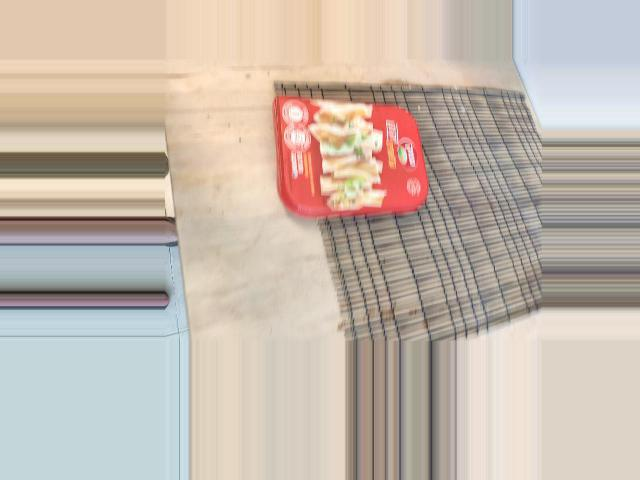cheese: (287, 167, 416, 350)
